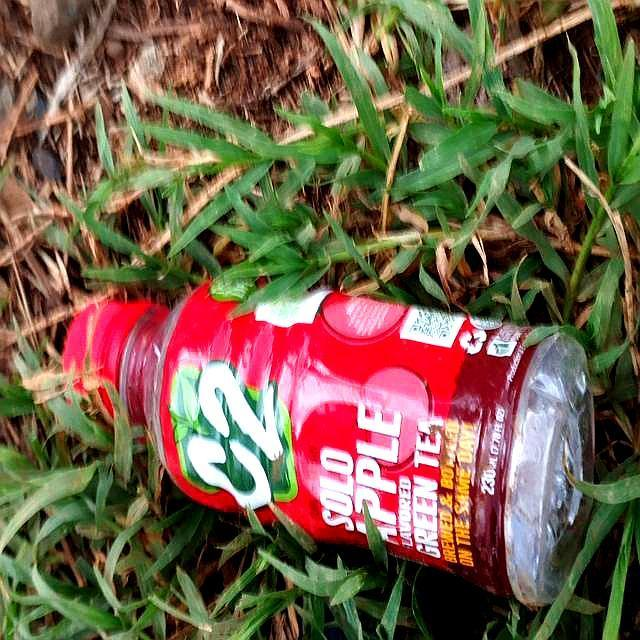Non-biodegradable: (23, 251, 597, 627)
